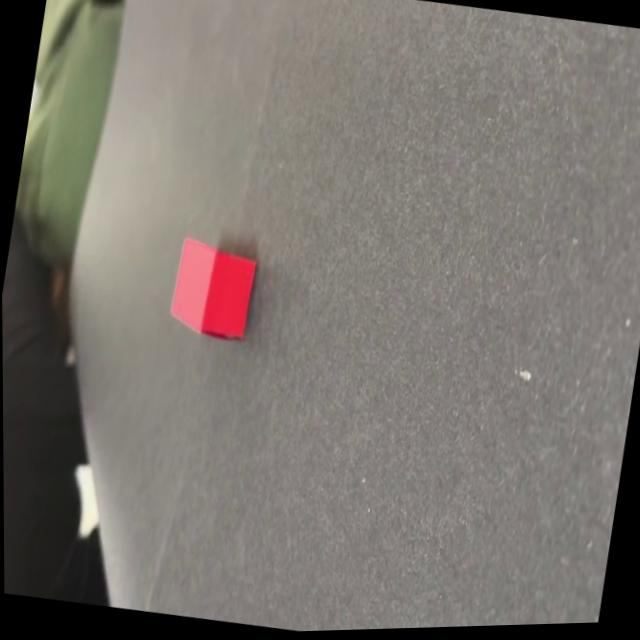red block: (166, 233, 261, 345)
